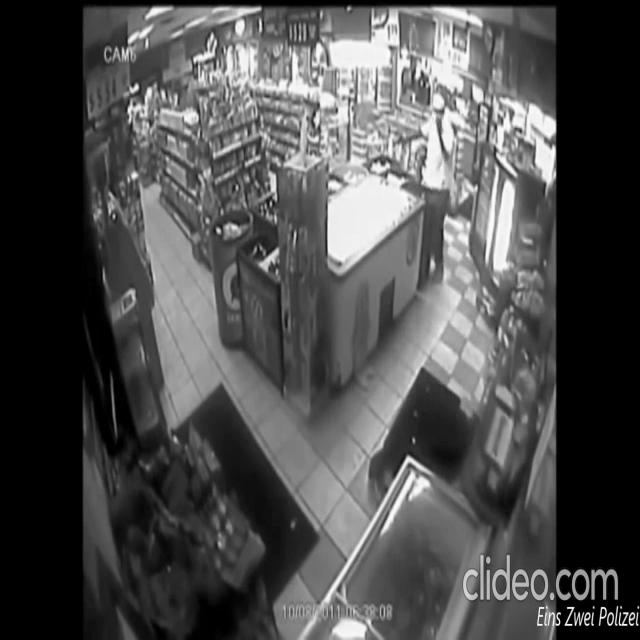gun: (392, 132, 404, 150)
person: (399, 95, 454, 287)
person with a gun: (390, 94, 456, 288)
